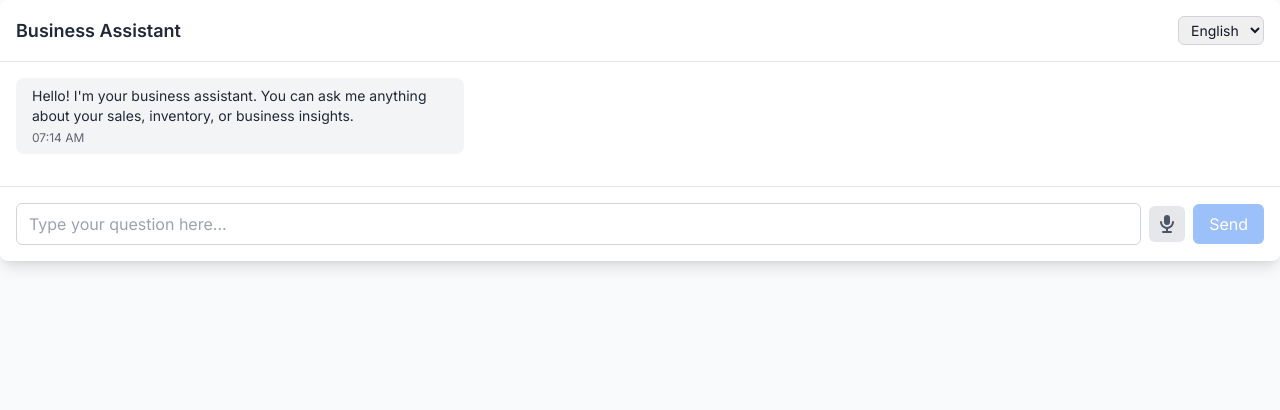
Test: ChatInterface › error handling › should display error message when chat query fails
Type "Test message" into the field with placeholder "Type your question here..." at (579, 224), box x1=16 y1=203 x2=1141 y2=245
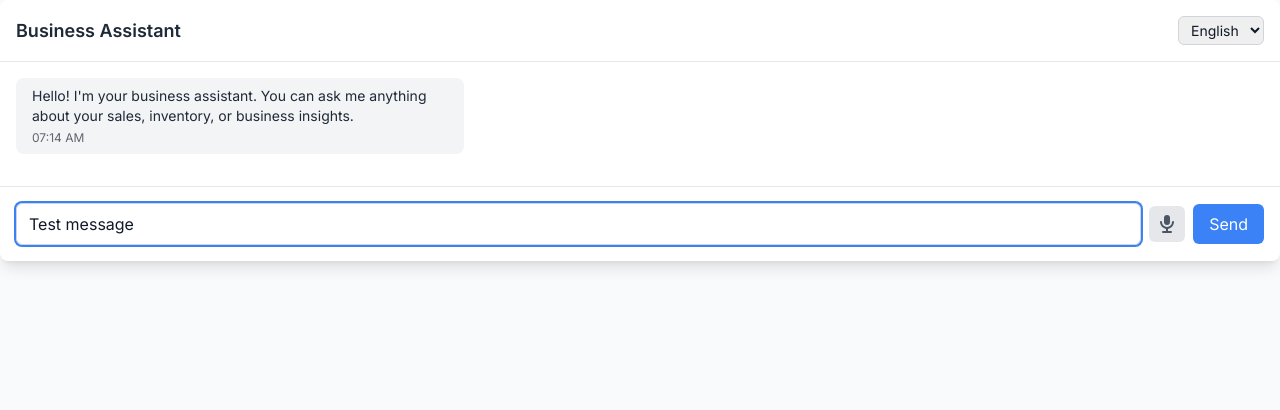
Click the button "Send" at (1229, 224), box x1=1193 y1=204 x2=1264 y2=244
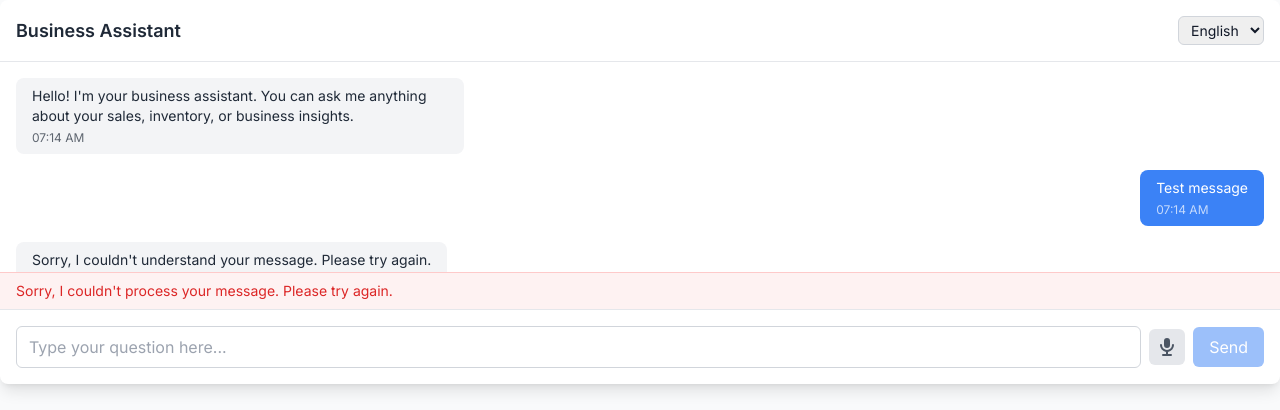
Now the text "Sorry, I couldn't understand your message. Please try again." is shown, box x1=32 y1=250 x2=431 y2=270
